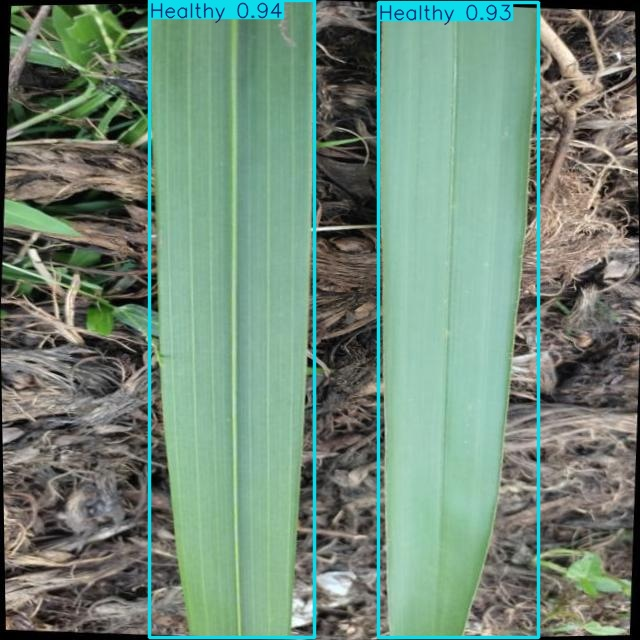Healthy: (150, 1, 314, 638), (379, 3, 539, 638)
